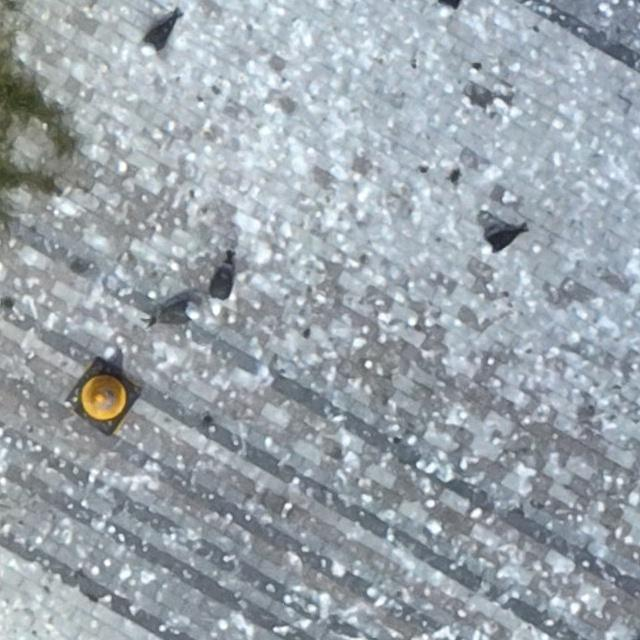umineko: (152, 302, 202, 326), (210, 264, 232, 304), (144, 23, 172, 53), (486, 230, 520, 250)
